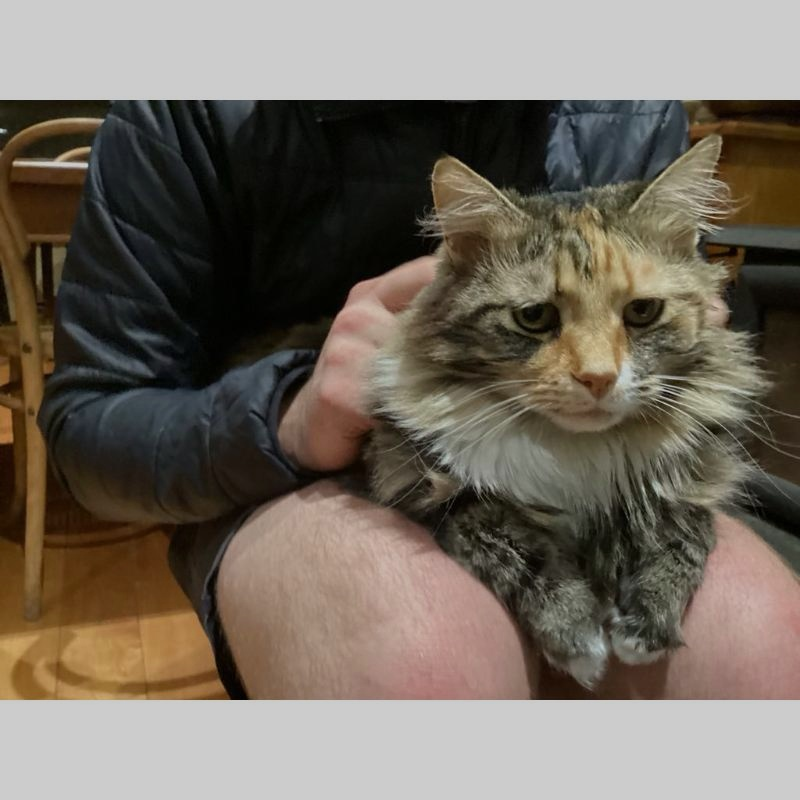red: (373, 132, 796, 684)
